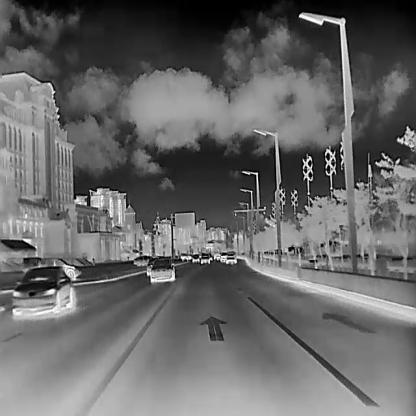car: (11, 265, 72, 315), (37, 257, 82, 281), (150, 255, 174, 283), (146, 255, 159, 275), (133, 254, 151, 265), (226, 250, 237, 264), (200, 252, 210, 264), (219, 250, 226, 262), (191, 252, 199, 262), (213, 250, 220, 260)
